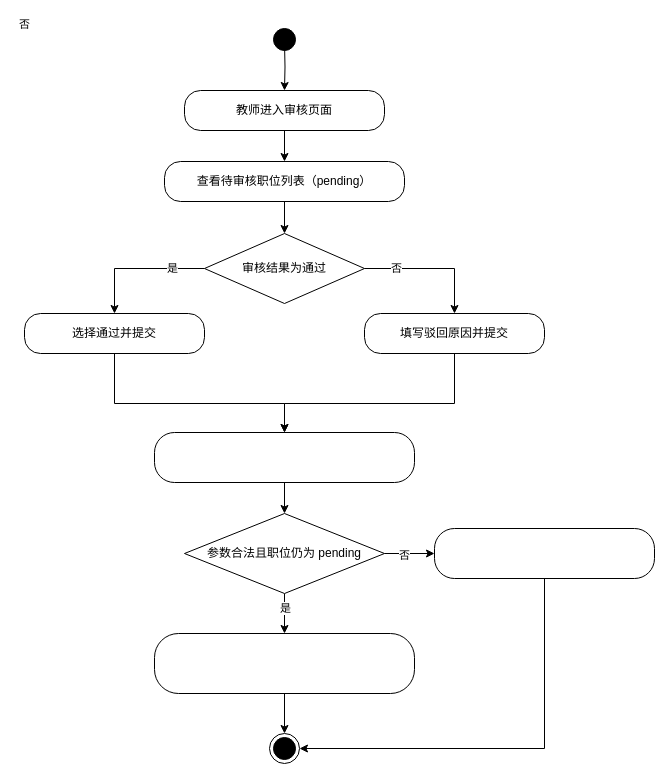
Some shapes in this 672 by 781 pixel diagram are drawn without their labels. The shapes that lost their labels are listed below. From the top down, each one's box as (x1, y1, x2, y2) in pixels, then its label:
(154, 432, 414, 482): 调用 auditJob(jobId, action, rejectReason)
(434, 528, 654, 578): 返回失败提示（状态冲突或参数错误）
(154, 632, 414, 694): 更新职位状态（published/rejected） 并写入通知
